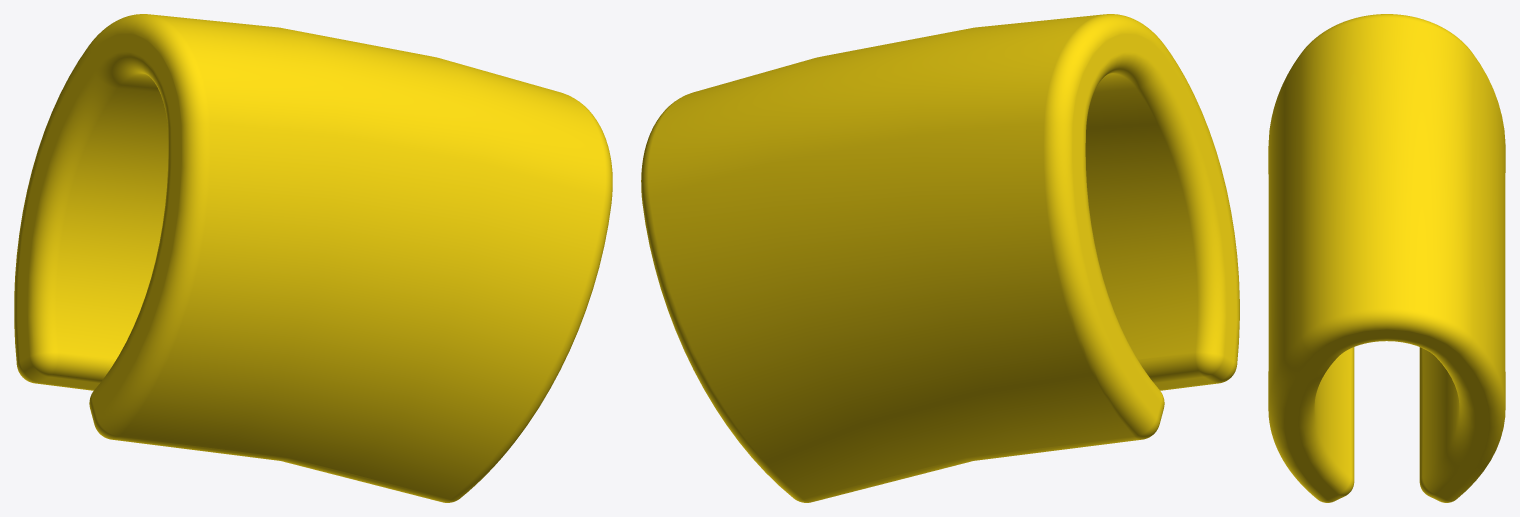
The model's file is _60355K291_Steel_Ball_Bearing_13.gltf.
3 views of the same model, side by side, from view 1: azimuth 30°, elevation 25°; view 2: azimuth 150°, elevation 25°; view 3: azimuth 270°, elevation 25° (orthographic). The views are drawn at different scales.
Visible parts, largest first — view 1: mesh56413, mesh56410, mesh56417, mesh56411, mesh56419, mesh56416, mesh56407, mesh56412, mesh56414, mesh56418, mesh56406, mesh56408 (+1 smaller); view 2: mesh56401, mesh56410, mesh56431, mesh56406, mesh56419, mesh56425, mesh56407, mesh56397, mesh56399, mesh56418, mesh56411, mesh56430 (+1 smaller); view 3: mesh56410, mesh56401, mesh56413, mesh56422, mesh56400, mesh56431, mesh56417, mesh56412, mesh56397, mesh56409, mesh56428, mesh56407 (+3 smaller).
Boxes of the visible parts, x1,y1,x2,y2 form: mesh56413: (120, 123, 604, 499); mesh56410: (150, 14, 605, 197); mesh56417: (56, 88, 168, 359); mesh56411: (97, 123, 210, 436); mesh56419: (17, 34, 181, 417); mesh56416: (27, 71, 117, 355); mesh56407: (87, 14, 209, 125); mesh56412: (451, 198, 611, 499); mesh56414: (114, 436, 450, 502); mesh56418: (94, 51, 171, 128); mesh56406: (14, 48, 87, 364); mesh56408: (50, 352, 115, 383); mesh56401: (649, 123, 1133, 499); mesh56410: (648, 14, 1103, 197); mesh56431: (1085, 88, 1197, 359); mesh56406: (1043, 123, 1156, 436); mesh56419: (1072, 34, 1236, 417); mesh56425: (1136, 71, 1226, 355); mesh56407: (1044, 14, 1166, 125); mesh56397: (642, 198, 802, 499); mesh56399: (803, 436, 1139, 502); mesh56418: (1082, 52, 1159, 129); mesh56411: (1166, 47, 1239, 364); mesh56430: (1138, 352, 1203, 383); mesh56410: (1301, 18, 1472, 336); mesh56401: (1473, 56, 1505, 406); mesh56413: (1268, 56, 1300, 405); mesh56422: (1284, 330, 1489, 499); mesh56400: (1301, 307, 1472, 353); mesh56431: (1314, 348, 1351, 475); mesh56417: (1422, 348, 1459, 475); mesh56412: (1268, 337, 1326, 500); mesh56397: (1447, 337, 1505, 500); mesh56409: (1422, 358, 1475, 494); mesh56428: (1298, 358, 1351, 494); mesh56407: (1301, 14, 1472, 54).
Size of the model in its own units: 0.00292 by 0.0027 by 0.00147.
